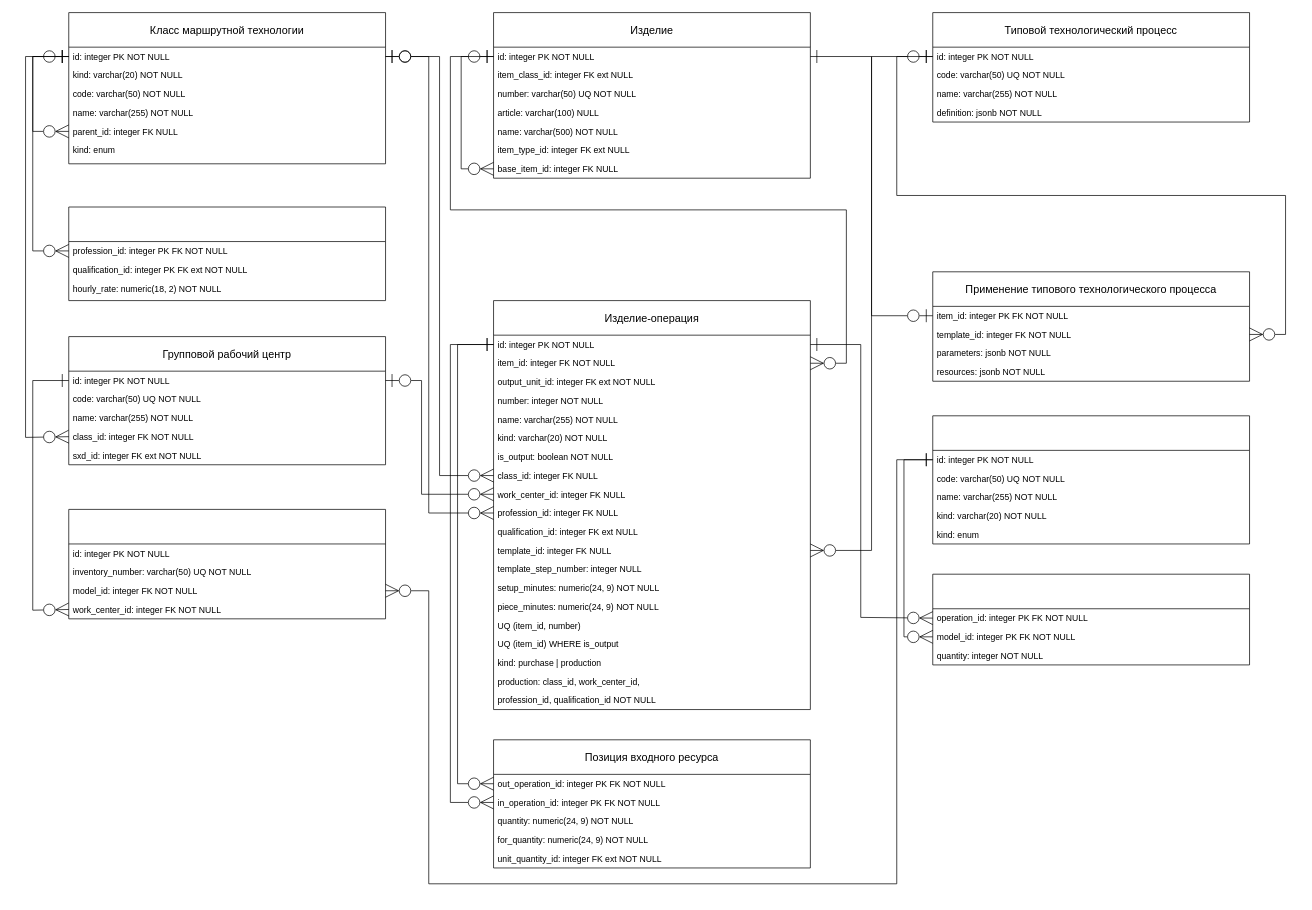
The diagram is 1312 pixels wide and 910 high, and some of its shapes have lost their labels. Here are the shapes that lost their labels. From the top down, the box of each, then its label:
(68, 206, 386, 301): Часовая ставка
(932, 415, 1250, 544): Модель средства труда
(68, 509, 386, 619): Инвентарная единица средства труда
(932, 573, 1250, 665): Требование к средству труда
